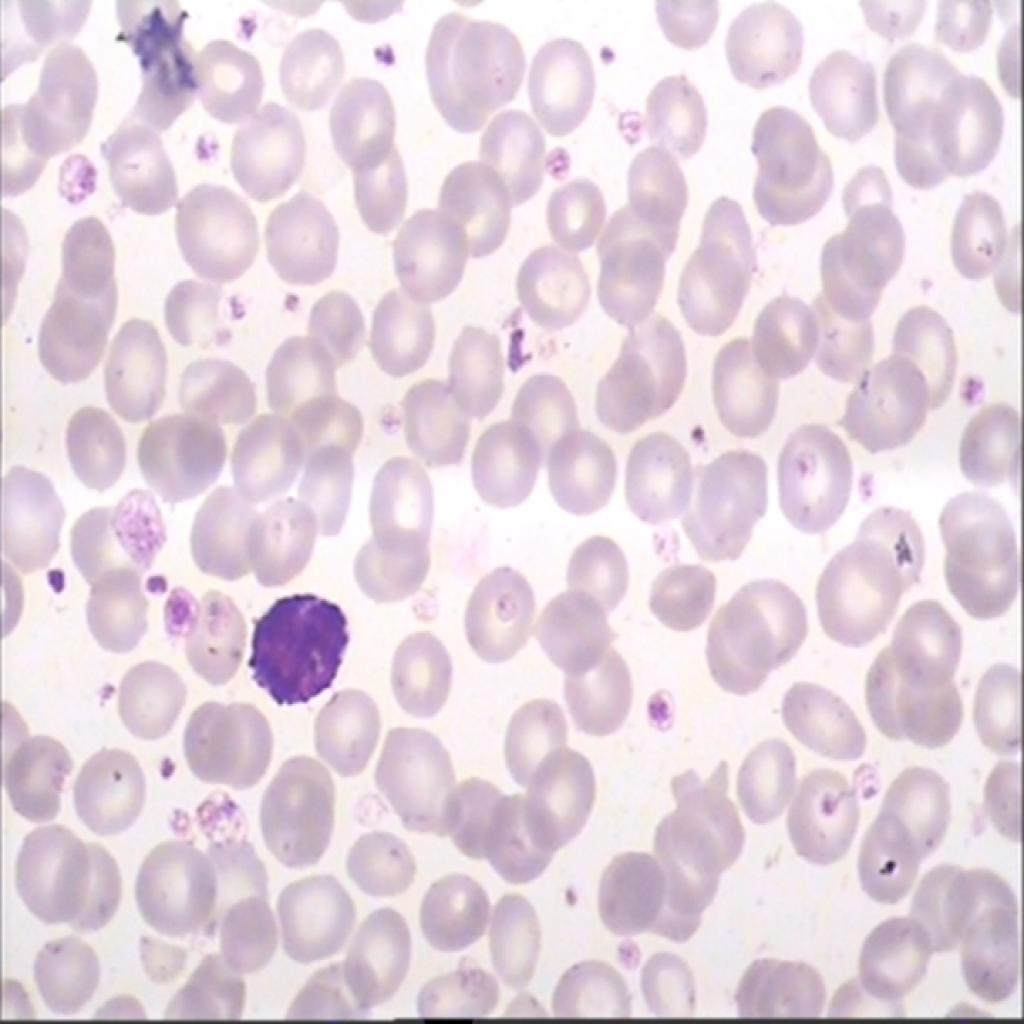Basofil: (233, 578, 361, 729)
Platelet: (494, 304, 538, 389), (50, 144, 101, 203), (544, 870, 592, 932), (642, 678, 688, 740), (180, 121, 238, 165), (30, 544, 74, 601), (91, 665, 128, 729), (605, 94, 647, 148), (364, 396, 422, 434), (146, 732, 186, 782), (582, 25, 628, 64), (596, 926, 637, 969), (274, 279, 318, 317), (852, 459, 890, 503), (954, 364, 988, 410), (533, 135, 566, 181), (218, 286, 250, 332), (374, 30, 405, 71), (140, 564, 170, 606), (168, 590, 192, 642), (230, 0, 262, 39), (680, 412, 705, 454), (895, 537, 920, 574)
